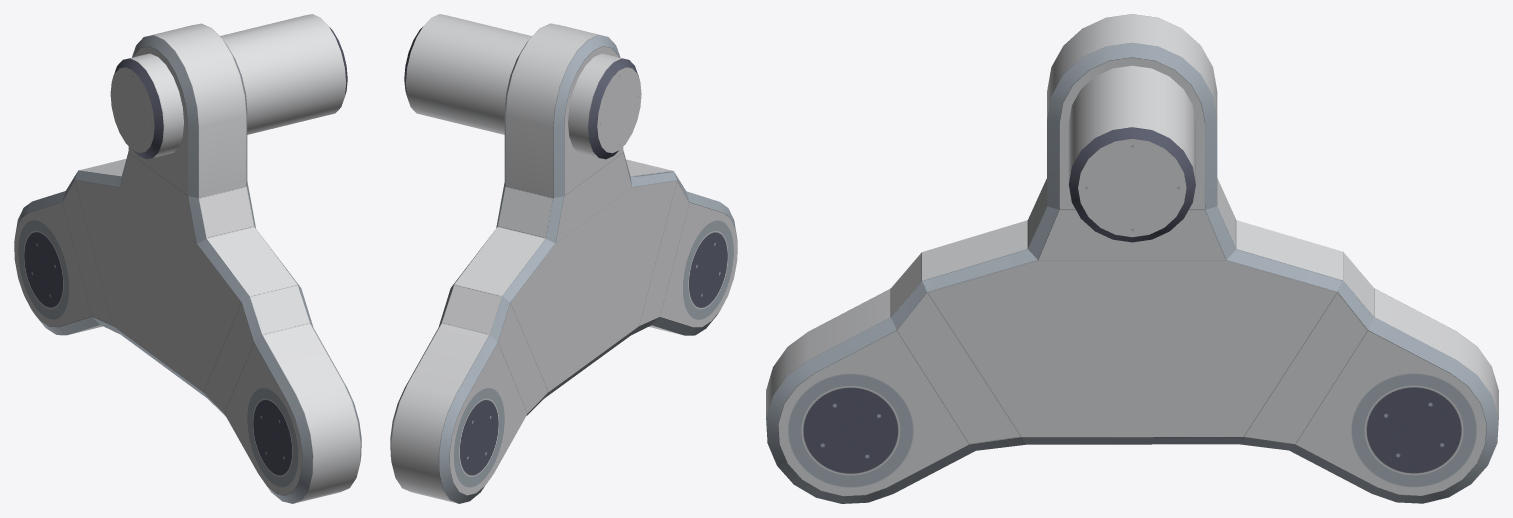
Rendered from Articulated_Axis_01.FBX.
3 views of the same model, side by side, from view 1: azimuth 30°, elevation 25°; view 2: azimuth 150°, elevation 25°; view 3: azimuth 270°, elevation 25° (orthographic). The views are drawn at different scales.
Visible parts, largest first — view 1: Articulated_Axis_01; view 2: Articulated_Axis_01; view 3: Articulated_Axis_01.
Boxes of the visible parts, x1,y1,x2,y2 form: Articulated_Axis_01: (14, 14, 361, 503); Articulated_Axis_01: (390, 14, 737, 503); Articulated_Axis_01: (766, 14, 1498, 503).
Size of the model in its own units: 2.92 by 5.42 by 7.8.
Materials: 3 (3 with a texture image).
